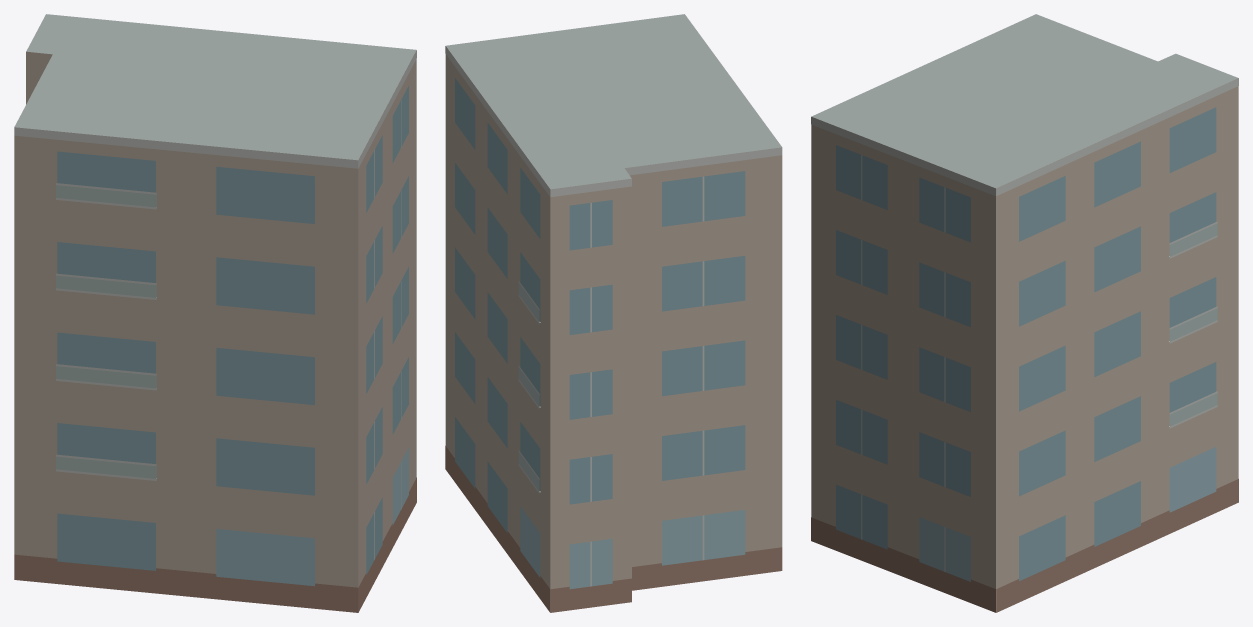
Rendered from survey-upis-32711270.glb.
3 views of the same model, side by side, from view 1: azimuth 30°, elevation 25°; view 2: azimuth 150°, elevation 25°; view 3: azimuth 270°, elevation 25° (orthographic). The views are drawn at different scales.
Parts seen in each view (by area): view 1: survey-upis-32711270.tmp; view 2: survey-upis-32711270.tmp; view 3: survey-upis-32711270.tmp.
Part boxes in pixels (x1,y1,x2,y2): survey-upis-32711270.tmp: (14,14,416,612); survey-upis-32711270.tmp: (445,14,782,612); survey-upis-32711270.tmp: (811,14,1238,612).
Bounding box in the file's own units: 11.65 × 13.2 × 12.06.
